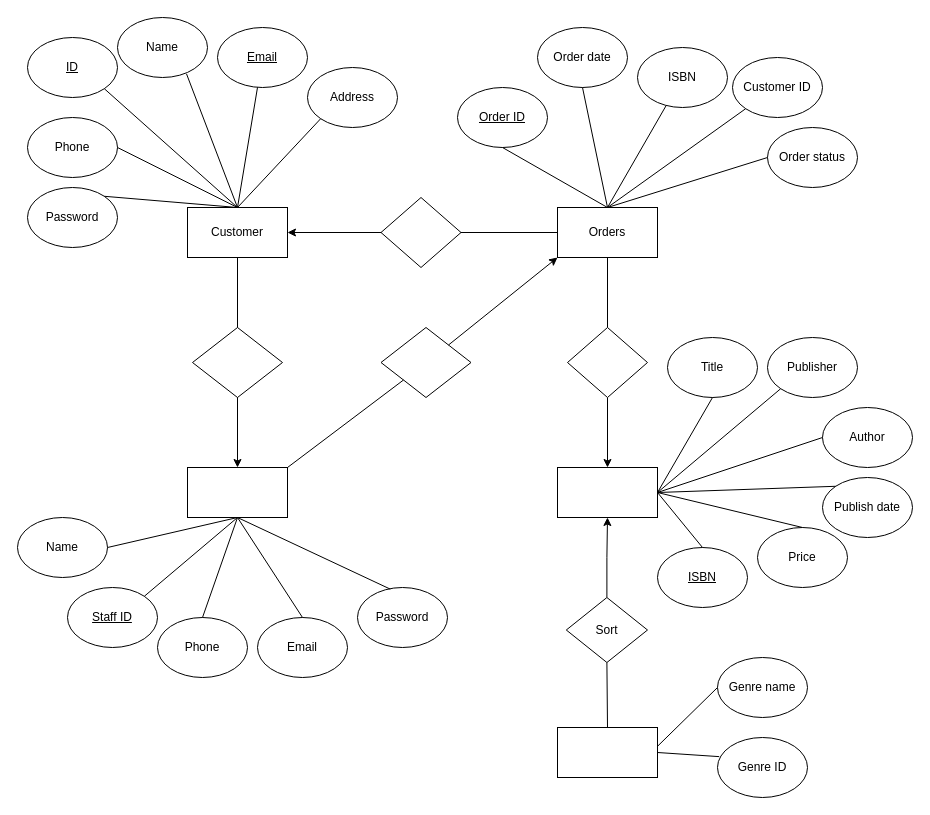
Some shapes in this 930 by 815 pixel diagram are drawn without their labels. Each missing label, with the box of its shape:
Book_order: (566, 326, 648, 398)
Books: (556, 466, 658, 518)
Cashier: (186, 466, 288, 518)
Categories: (556, 726, 658, 778)
Cust_order: (380, 196, 461, 268)
Payment: (192, 326, 282, 398)
Take_order: (380, 326, 471, 398)
